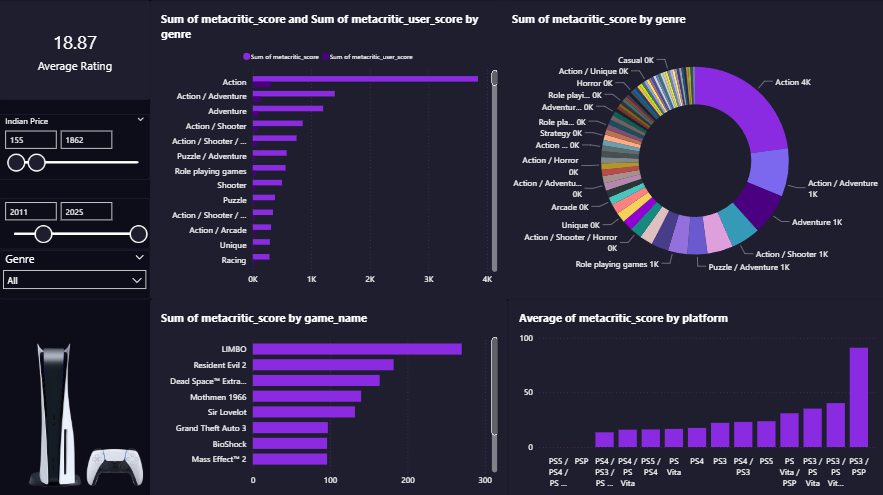

What the dashboard file says about the page in this screenshot:
{"tool":"powerbi","page":{"name":"Rating ","canvas":[1280,720],"ordinal":2},"visuals":[{"type":"columnChart","fields":{"Category":["game_details.platform"],"Y":["Avg(game_details.metacritic_score)"]},"box":[732.9,430.7,547.1,290.2],"z":0},{"type":"donutChart","fields":{"Category":["game_details.genre"],"Y":["Sum(game_details.metacritic_score)"]},"box":[722.4,0,557.6,430.7],"z":1000},{"type":"clusteredBarChart","fields":{"Category":["game_details.genre","game_details.platform"],"Y":["Sum(game_details.metacritic_score)","Sum(game_details.metacritic_user_score)"]},"box":[217.6,0,515.3,430.7],"z":2000},{"type":"clusteredBarChart","fields":{"Category":["game_details.game_name"],"Y":["Sum(game_details.metacritic_score)"]},"box":[217.6,430.7,515.3,288.6],"z":3000},{"type":"slicer","fields":{"Values":["game_details.Release_Year"]},"box":[0,285.6,217.6,74],"z":4000},{"type":"slicer","fields":{"Values":["game_details.genre"]},"box":[0,359.7,217.6,71],"z":5000},{"type":"slicer","fields":{"Values":["game_details.Indian Price"]},"box":[0,164.7,217.6,95.2],"z":6000},{"type":"card","fields":{"Values":["game_details.Average Rating"]},"box":[0,0,217.6,143.6],"z":6001}]}

Visuals, with their boxes in screenshot pixels (x1, y1, x2, y2), scaled from the page's 1280x720 canvas onto the 883x495 screenshot:
columnChart - game_details.platform x Avg(game_details.metacritic_score): <bbox>506, 296, 882, 494</bbox>
donutChart - game_details.genre x Sum(game_details.metacritic_score): <bbox>498, 0, 882, 296</bbox>
clusteredBarChart - game_details.genre x game_details.platform: <bbox>150, 0, 506, 296</bbox>
clusteredBarChart - game_details.game_name x Sum(game_details.metacritic_score): <bbox>150, 296, 506, 494</bbox>
slicer - game_details.Release_Year: <bbox>0, 196, 150, 247</bbox>
slicer - game_details.genre: <bbox>0, 247, 150, 296</bbox>
slicer - game_details.Indian Price: <bbox>0, 113, 150, 179</bbox>
card - game_details.Average Rating: <bbox>0, 0, 150, 99</bbox>
